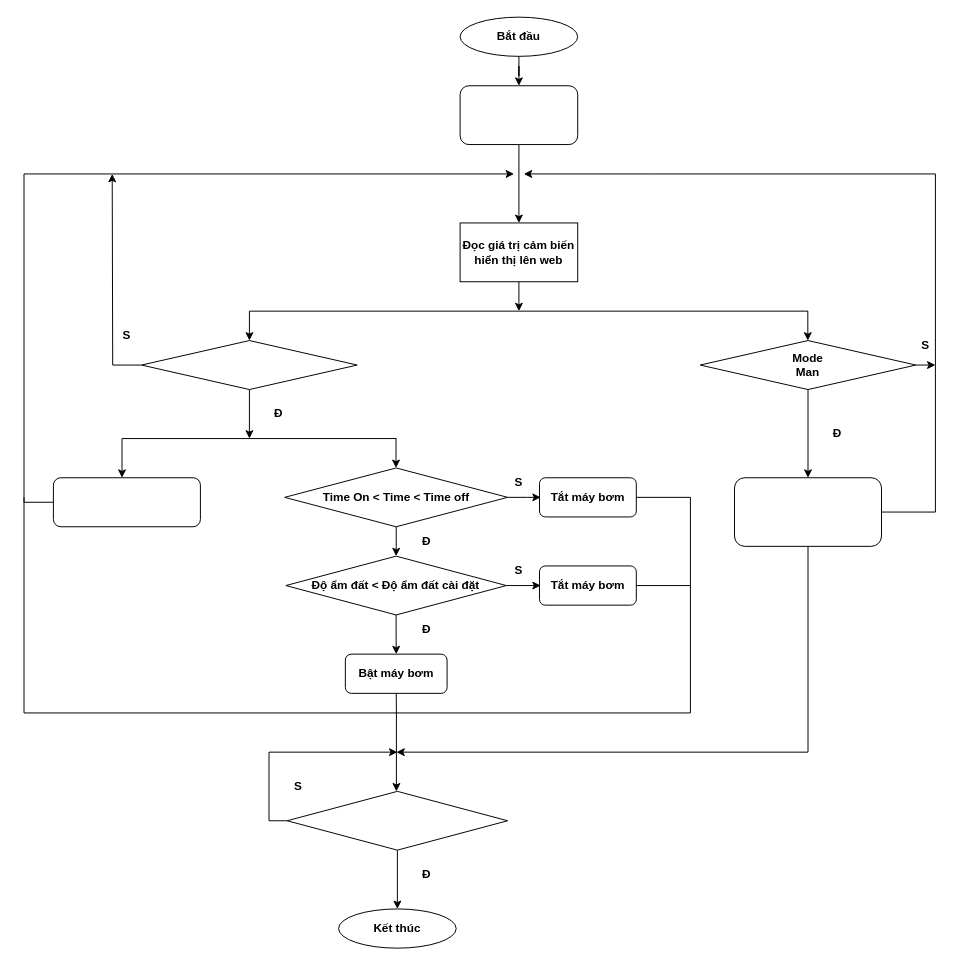
Some shapes in this 972 by 965 pixel diagram are drawn without their labels. The shapes that lost their labels are listed below. From the top down, each one's centre as x and y in pixels, then its label:
At (x=518, y=115): "Khởi tạo các ngoại vi".
At (x=249, y=365): "Mode Auto".
At (x=126, y=502): "Bật/tắt các cơ cấu chấp hành theo các ngưỡng đặt".
At (x=808, y=511): "Bật cơ cấu chấp hành theo các nút nhấn trên Web".
At (x=397, y=820): "Có sự cố về hệ thống".
